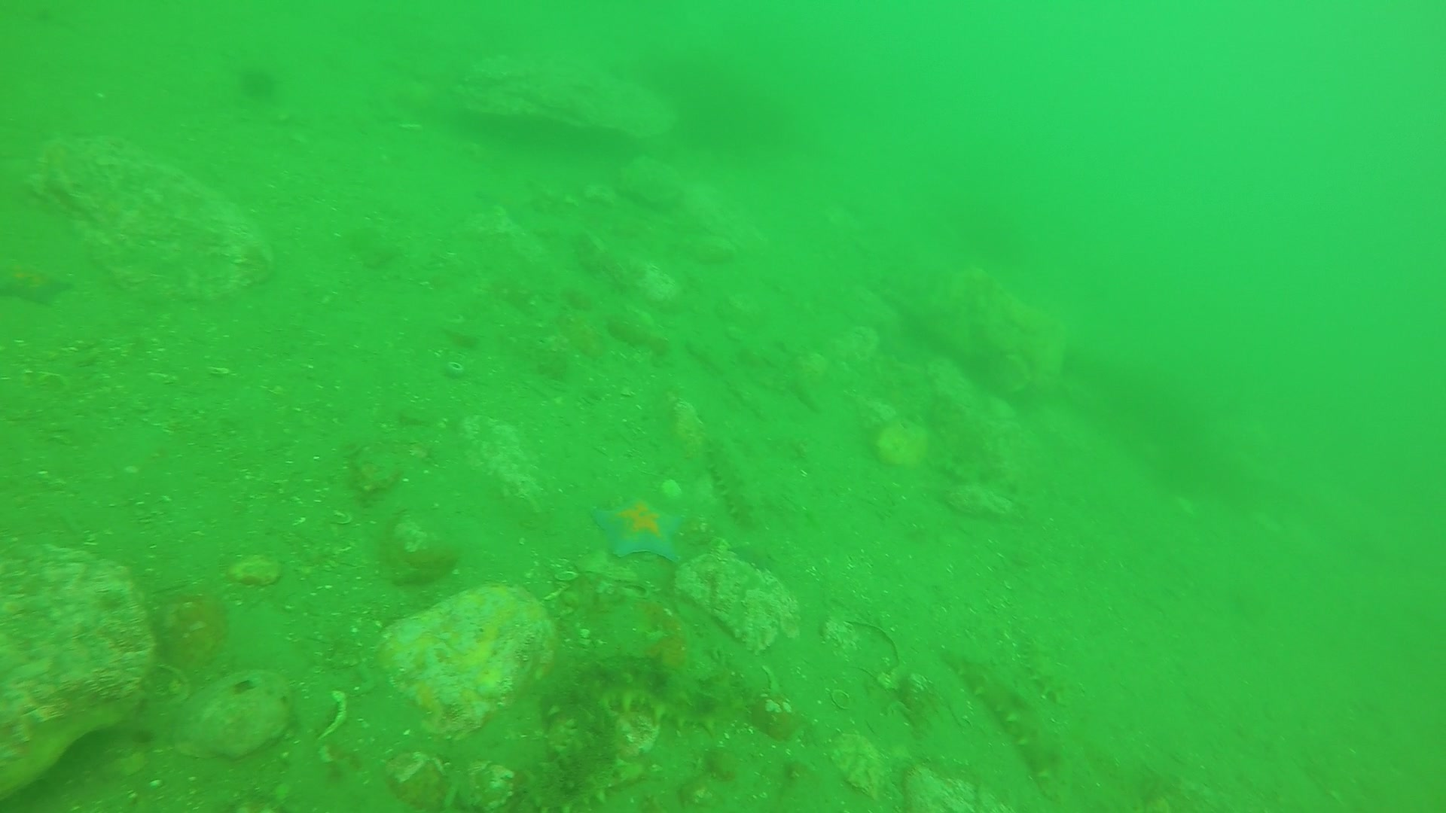echinus: (941, 647, 1063, 792), (496, 716, 637, 813), (571, 660, 721, 729), (696, 428, 764, 530)
holothurian: (591, 491, 696, 566)
scallop: (29, 129, 277, 304), (368, 582, 546, 726), (449, 44, 681, 130), (672, 545, 804, 646), (161, 665, 291, 757)
starfish: (235, 65, 280, 103)
